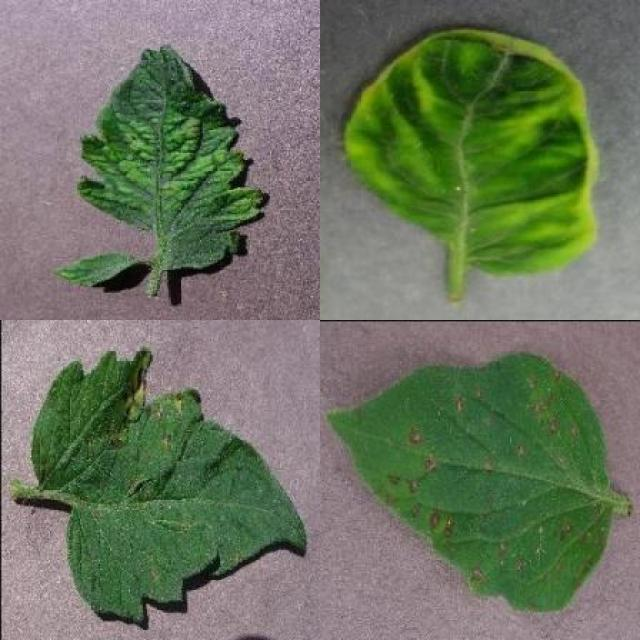Mosaic Virus: (72, 44, 262, 272)
Septoria: (32, 350, 308, 623), (328, 348, 612, 612)
Yellow Leaf Curl Virus: (341, 27, 600, 276)
